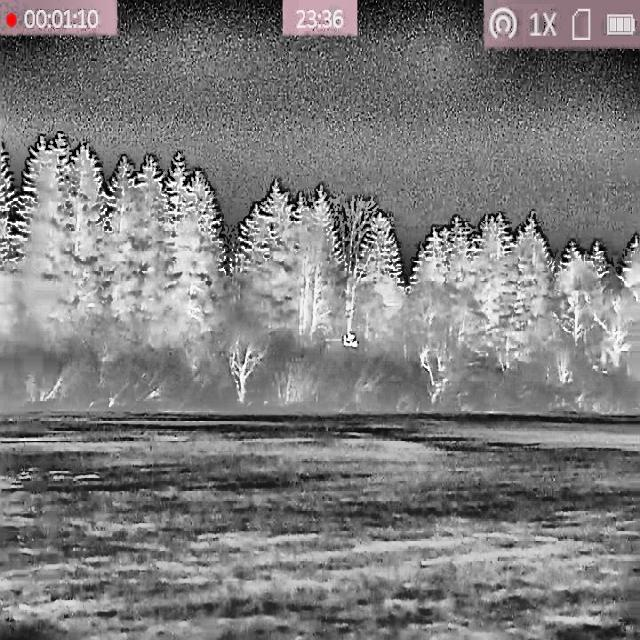drone: (342, 330, 359, 350)
